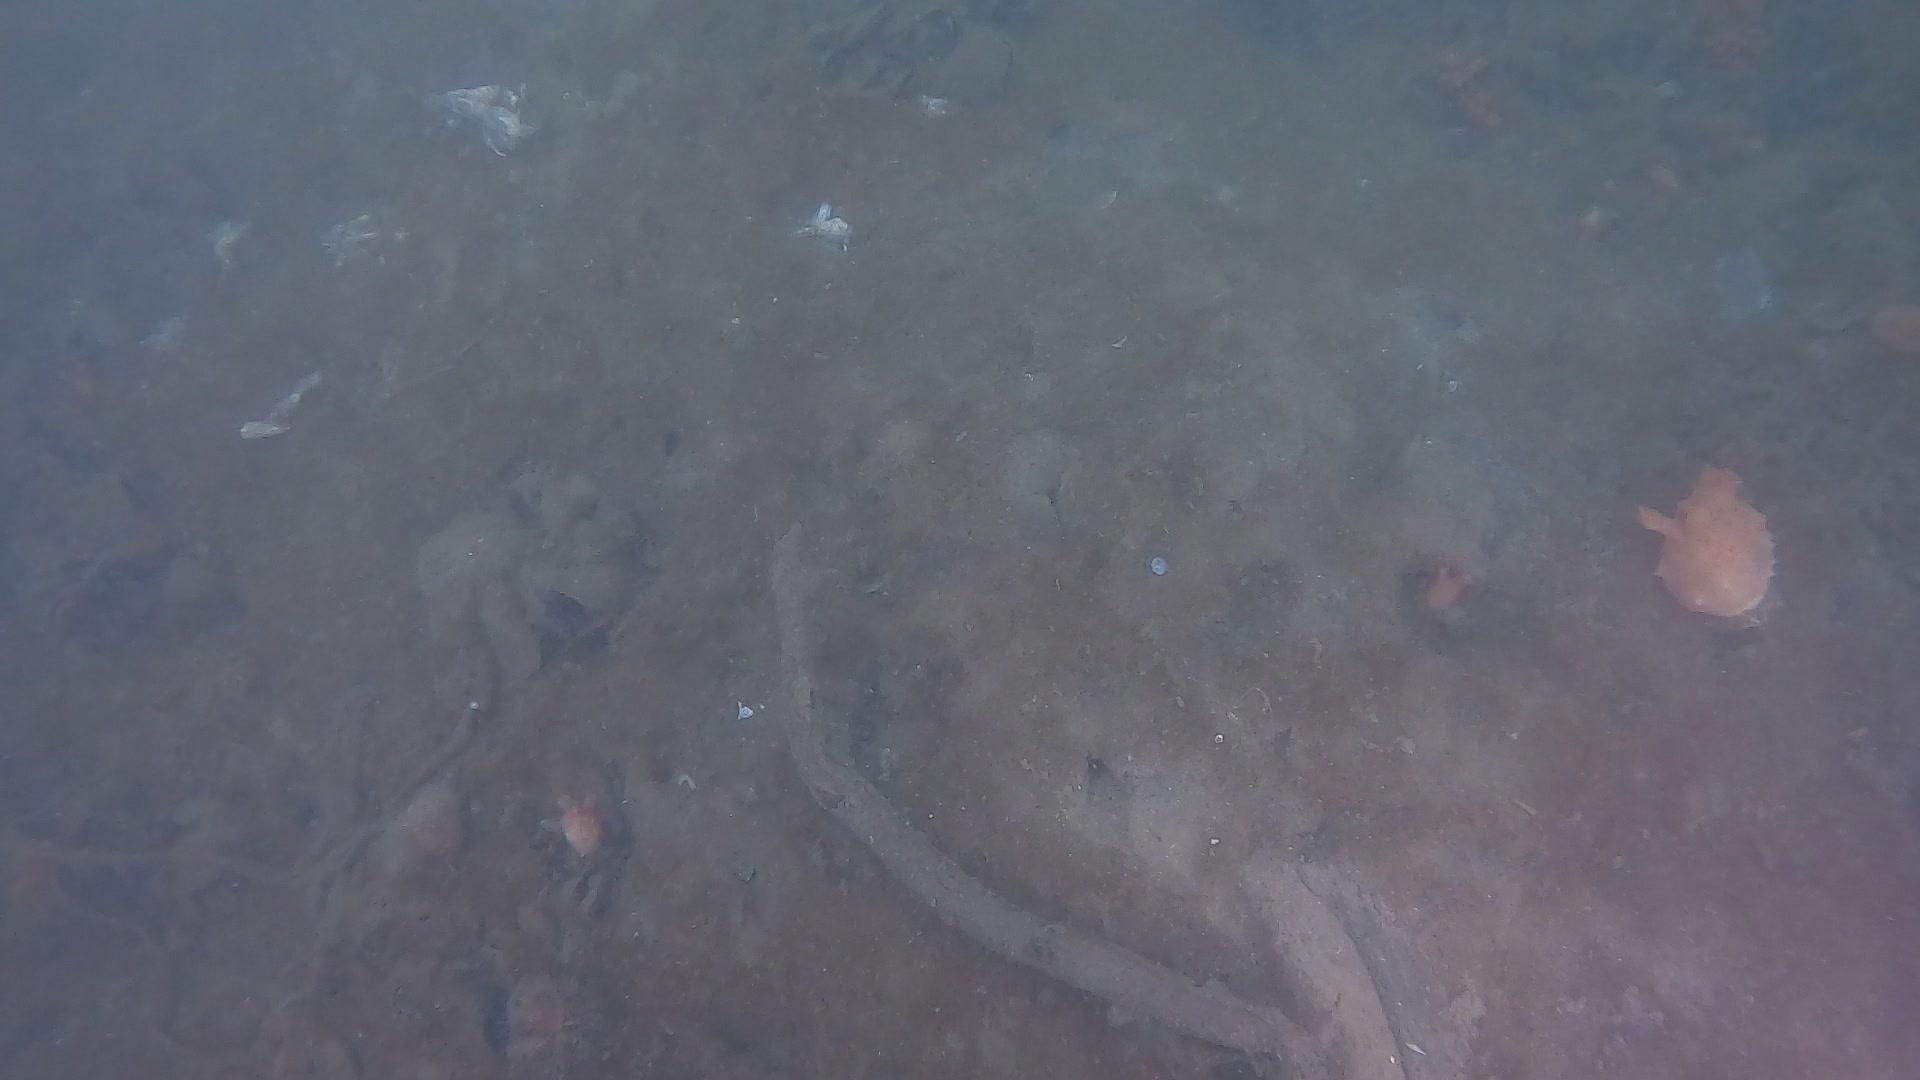wood: (766, 520, 1400, 1080)
